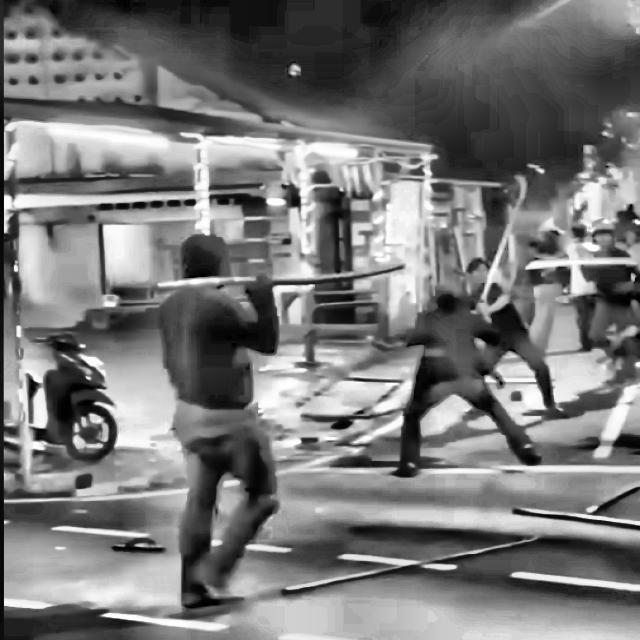celurit: (474, 168, 531, 334)
robbery: (130, 169, 639, 616)
tongkat pemukul: (139, 253, 418, 316)
